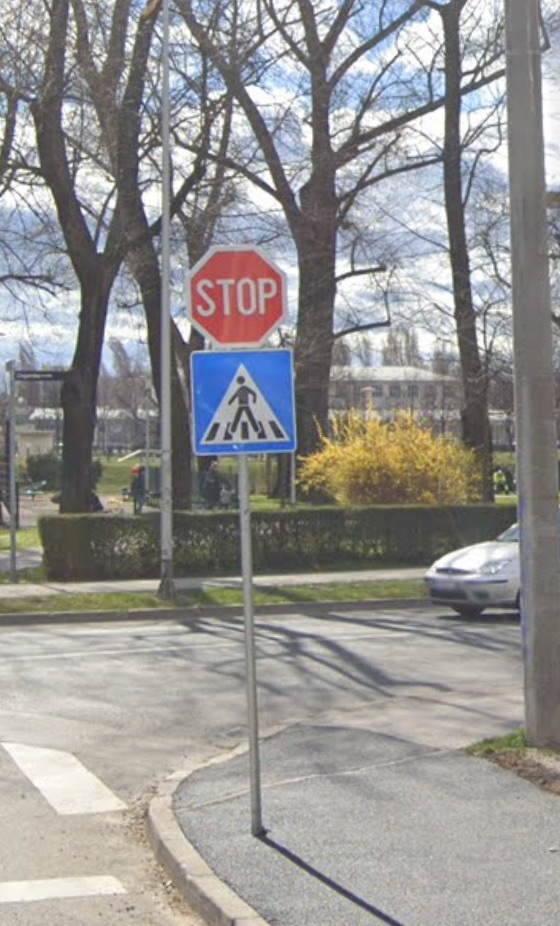Obavezno zaustavljanje: (186, 245, 288, 348)
Pješački prijelaz: (190, 349, 298, 455)
